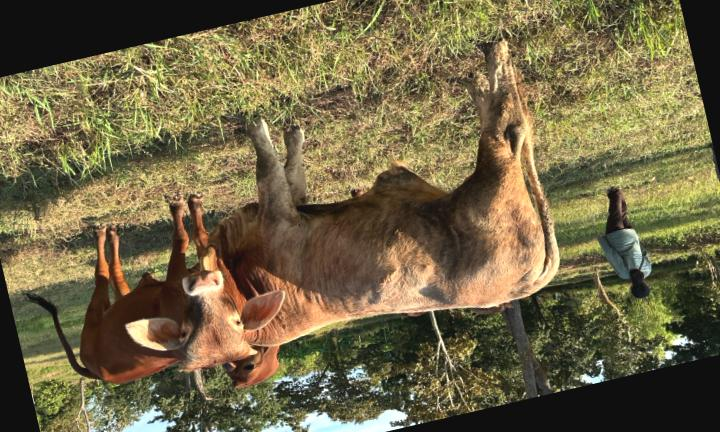Charolais: (120, 41, 559, 370)
